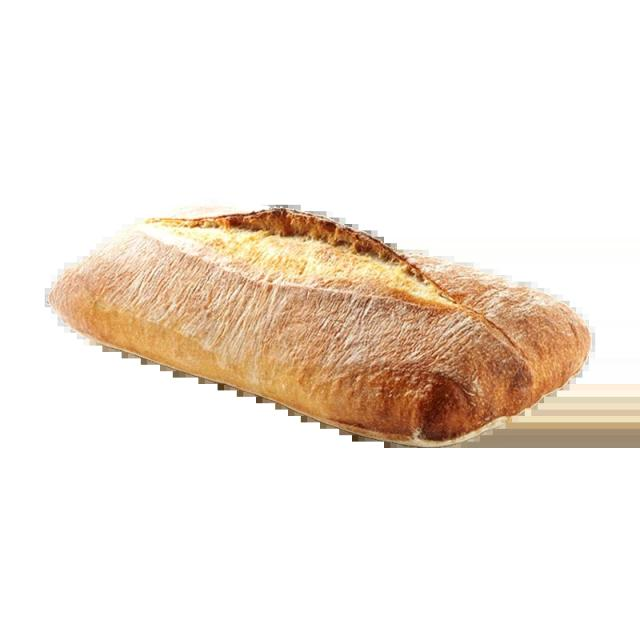Ciabatta: (50, 208, 590, 446)
